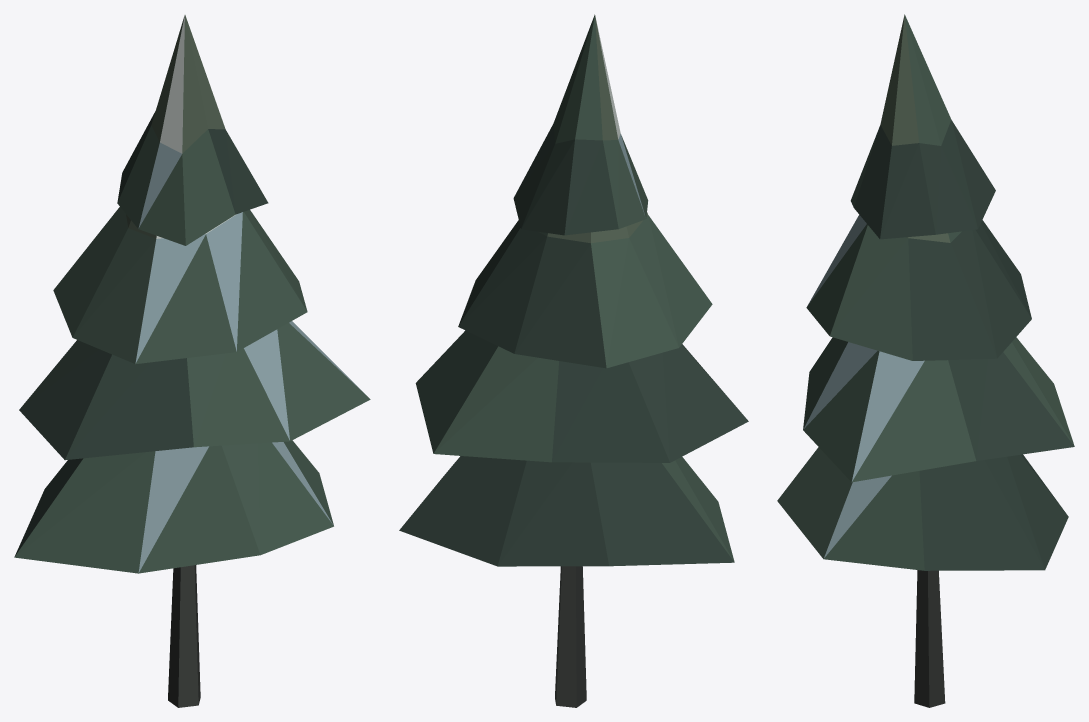
The model's file is Woodland_Pine_Mid.obj.
3 views of the same model, side by side, from view 1: azimuth 30°, elevation 25°; view 2: azimuth 150°, elevation 25°; view 3: azimuth 270°, elevation 25° (orthographic). The views are drawn at different scales.
Visible parts, largest first — view 1: Woodland_Pine_Mid; view 2: Woodland_Pine_Mid; view 3: Woodland_Pine_Mid.
Part boxes in pixels (<box>): Woodland_Pine_Mid: <box>14,15,370,707</box>; Woodland_Pine_Mid: <box>399,14,748,707</box>; Woodland_Pine_Mid: <box>777,14,1074,707</box>.
Size of the model in its own units: 4.01 by 8.5 by 3.37.
Materials: 1 (1 with a texture image).
